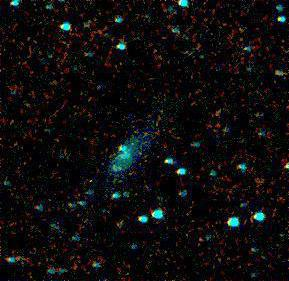star: (99, 156, 129, 186)
